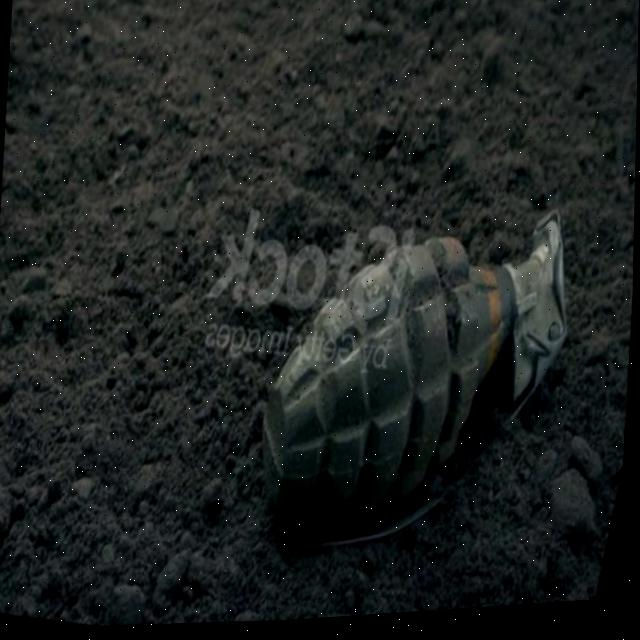grenade: (233, 149, 599, 604)
